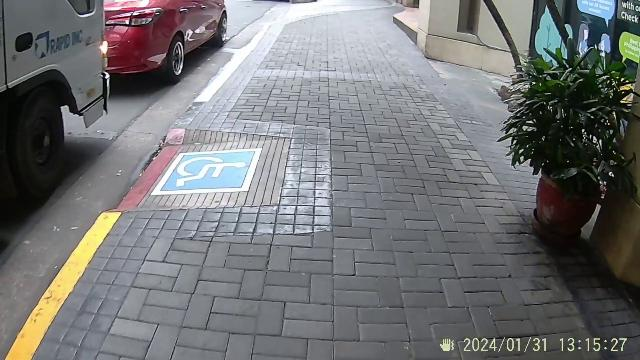car: (0, 1, 234, 237)
potted_plant: (518, 52, 624, 274)
